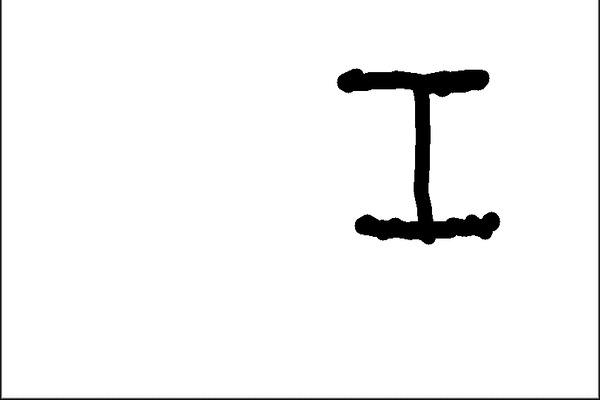i: (318, 47, 523, 260)
